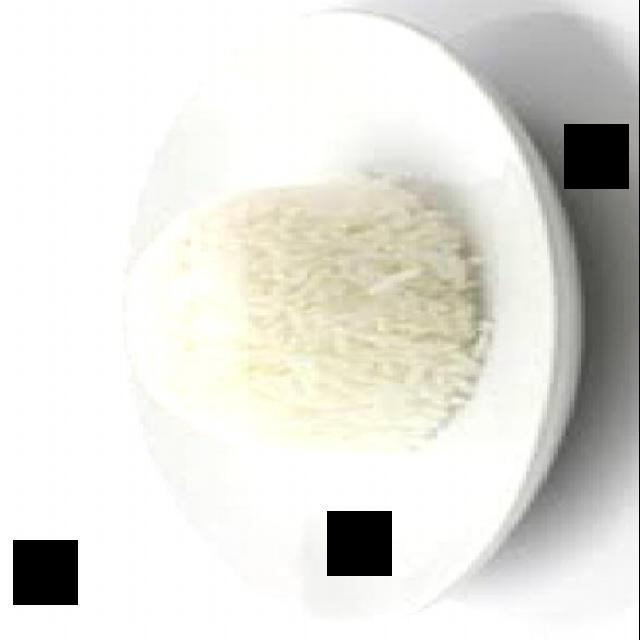rice: (126, 178, 492, 457)
